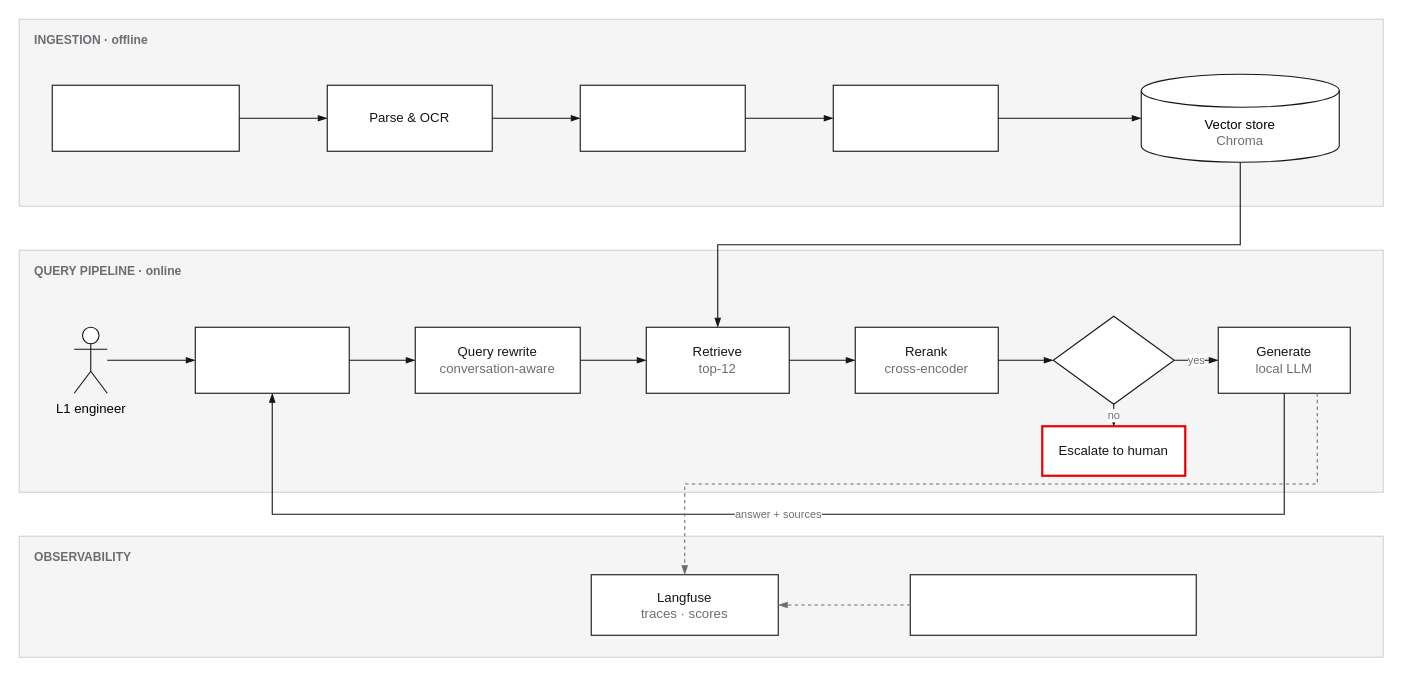
This 1403x677 diagram has some shape labels left out. Each missing label, with the centre of its shape:
"Anonymize" belongs at pixel 662 117.
"Chat UI Streamlit" belongs at pixel 271 359.
"Chunk & embed" belongs at pixel 915 117.
"Evaluation golden set · LLM judge · URL check" belongs at pixel 1052 604.
"grounded?" belongs at pixel 1113 359.
"Sources docs · tickets · FAQs" belongs at pixel 145 117.
